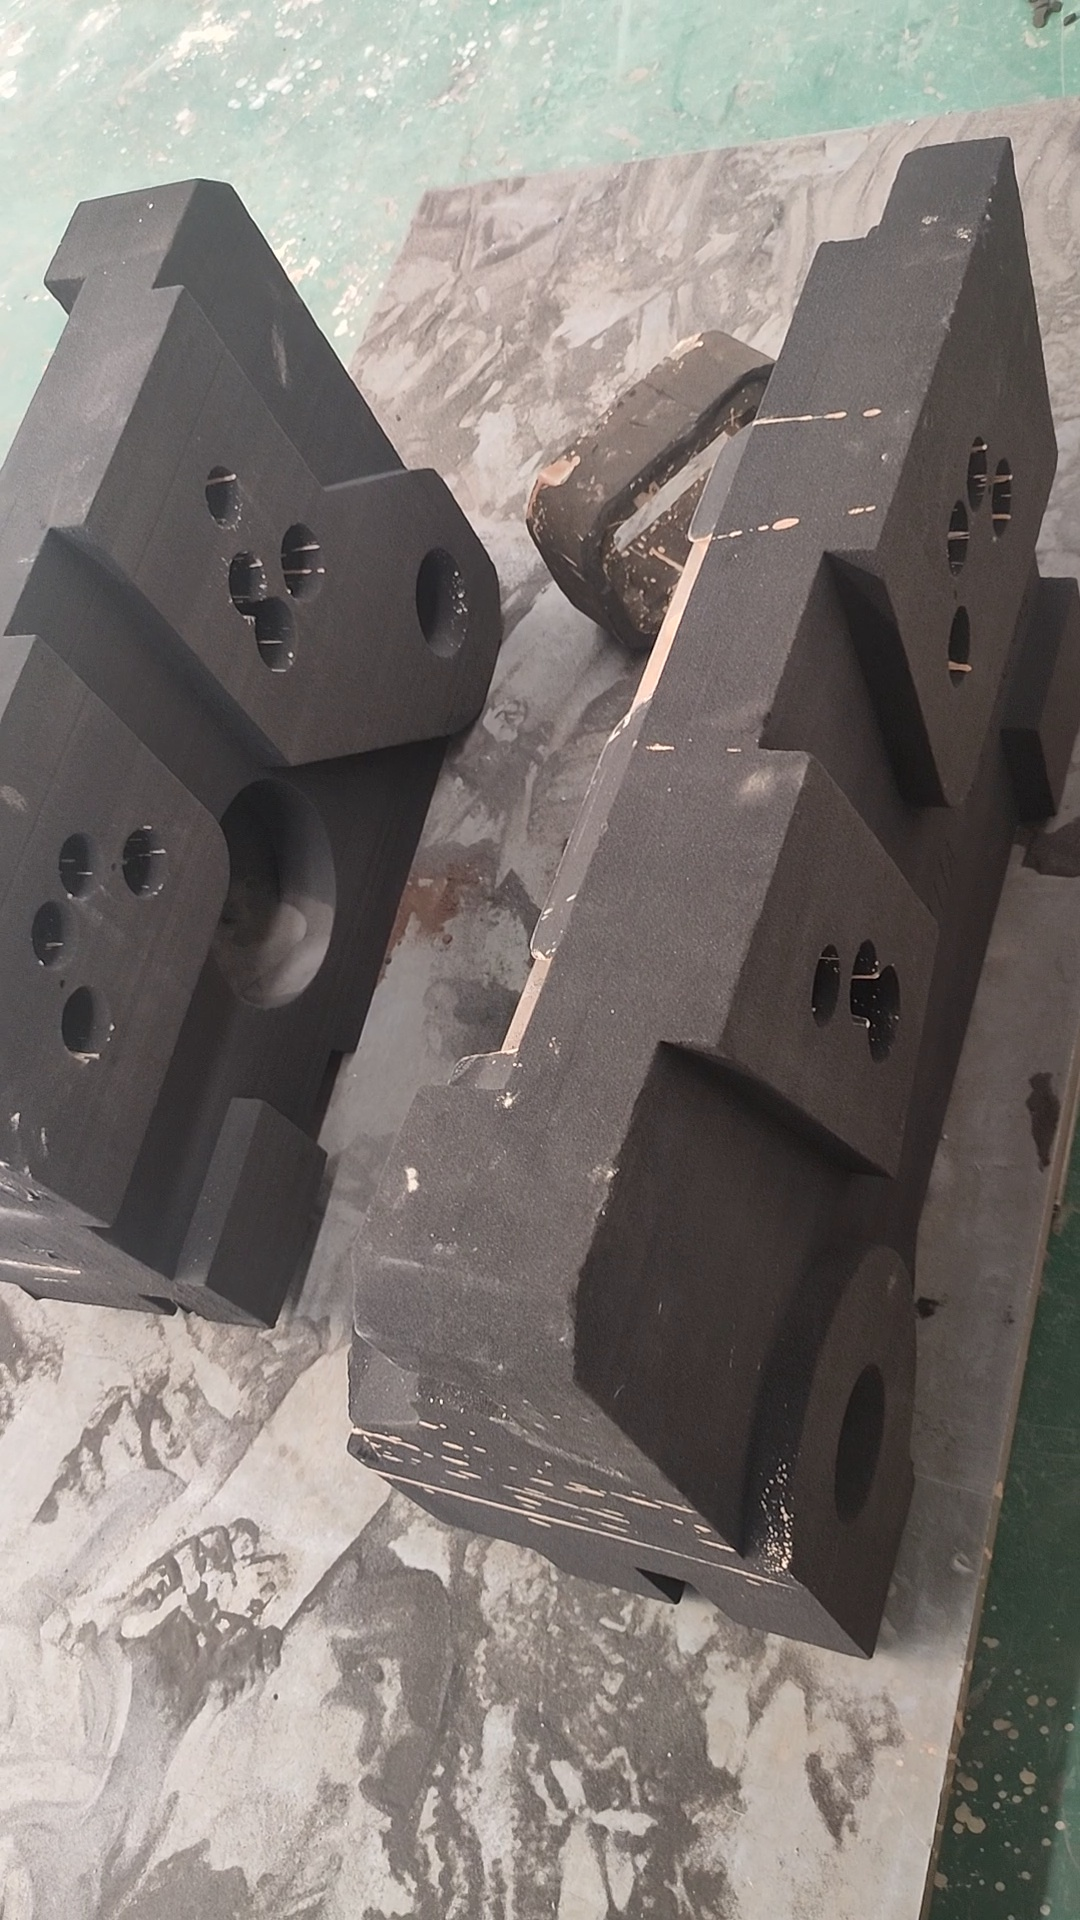pouring hole: (835, 1364, 887, 1524), (415, 550, 469, 655)
